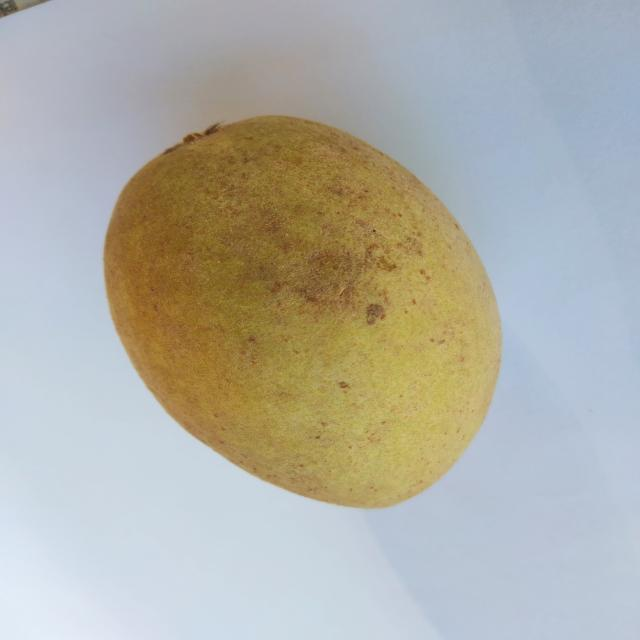mentah: (102, 114, 505, 510)
